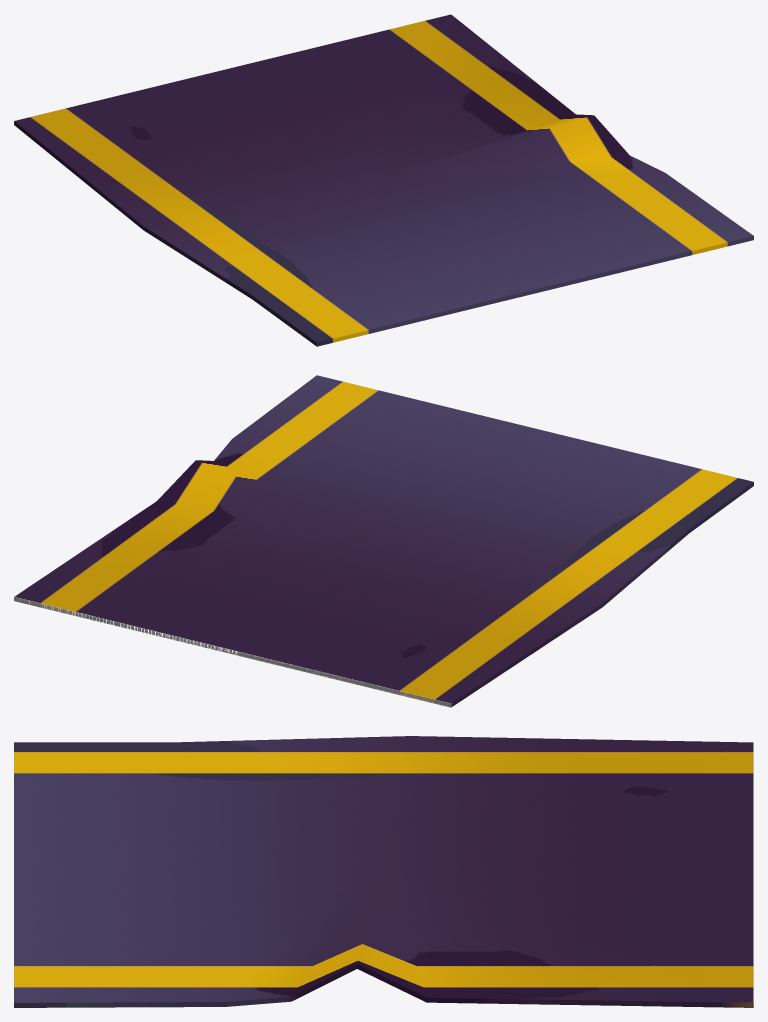
File: Carpet 01 Center 03.fbx
3 views of the same model, one above another, from view 1: azimuth 30°, elevation 25°; view 2: azimuth 150°, elevation 25°; view 3: azimuth 270°, elevation 25° (orthographic). The views are drawn at different scales.
Parts seen in each view (by area): view 1: Carpet 01 Center 03; view 2: Carpet 01 Center 03; view 3: Carpet 01 Center 03.
Boxes of the visible parts, left/top/right/bottom form: Carpet 01 Center 03: left=14, top=14, right=753, bottom=346; Carpet 01 Center 03: left=14, top=375, right=753, bottom=707; Carpet 01 Center 03: left=14, top=736, right=753, bottom=1007.
Bounding box in the file's own units: 171 × 9.74 × 200.
